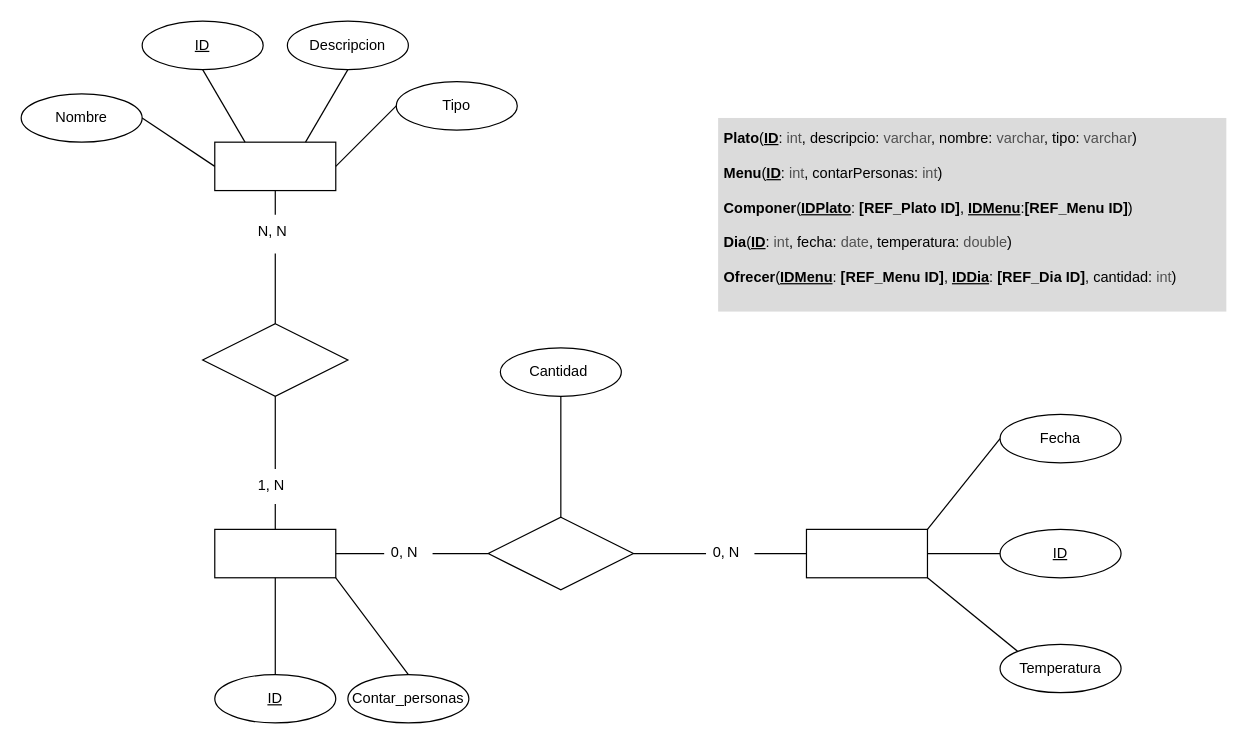
Some shapes in this 1248 by 744 pixel diagram are drawn without their labels. The shapes that lost their labels are listed below. From the top down, each one's centre as x and y in pixels, then its label:
the point at 275,166: Plato
the point at 274,359: Componer
the point at 275,553: Menu
the point at 560,553: Ofrecer
the point at 866,553: Dia
